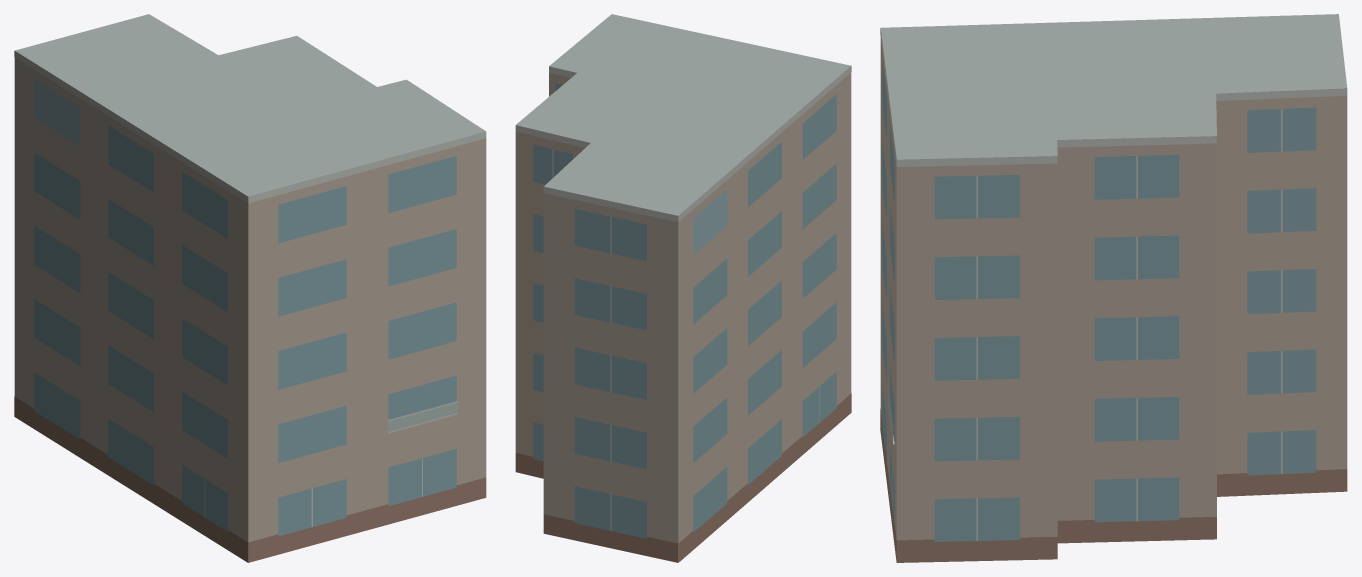
File: survey-upis-32949432.glb
The picture shows the model from 3 angles, left to right: view 1: azimuth 30°, elevation 25°; view 2: azimuth 150°, elevation 25°; view 3: azimuth 270°, elevation 25°; orthographic projection. The views are drawn at different scales.
Parts seen in each view (by area): view 1: survey-upis-32949432.tmp; view 2: survey-upis-32949432.tmp; view 3: survey-upis-32949432.tmp.
Part boxes in pixels (left/top/right/bottom): survey-upis-32949432.tmp: left=14, top=14, right=486, bottom=562; survey-upis-32949432.tmp: left=515, top=14, right=851, bottom=562; survey-upis-32949432.tmp: left=880, top=14, right=1347, bottom=562.
Bounding box in the file's own units: 10.23 × 13.2 × 13.86.
